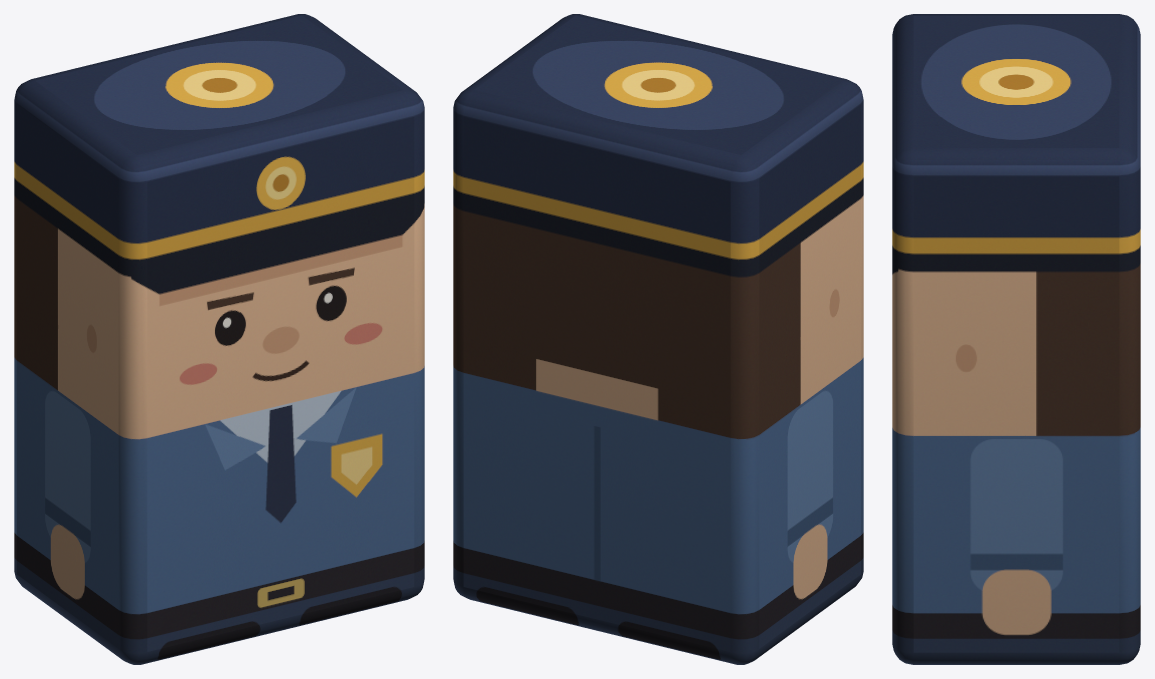
The model's file is Policeman.fbx.
The picture shows the model from 3 angles, left to right: view 1: azimuth 30°, elevation 25°; view 2: azimuth 150°, elevation 25°; view 3: azimuth 270°, elevation 25°; orthographic projection.
Parts seen in each view (by area): view 1: Policeman; view 2: Policeman; view 3: Policeman.
Boxes of the visible parts, x1,y1,x2,y2 form: Policeman: (14,14,424,664); Policeman: (453,14,863,664); Policeman: (892,14,1140,664).
Size of the model in its own units: 1 by 1.6 by 0.7.
Materials: 1 (1 with a texture image).
